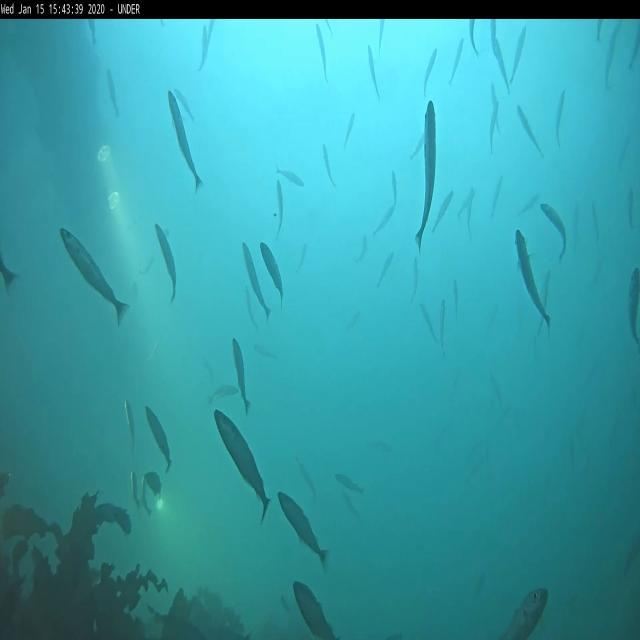fish: (63, 230, 130, 327), (216, 408, 270, 522), (278, 495, 328, 568), (167, 92, 202, 189), (518, 231, 552, 327), (418, 103, 438, 245), (294, 582, 336, 640), (502, 589, 549, 638), (244, 243, 271, 319), (155, 222, 177, 301), (147, 408, 172, 471), (232, 339, 253, 412), (541, 204, 566, 261), (518, 106, 544, 158), (604, 20, 624, 86), (260, 245, 282, 300), (512, 24, 528, 84), (627, 268, 639, 346), (105, 70, 123, 120), (432, 192, 453, 232), (367, 47, 383, 99), (316, 26, 330, 82), (374, 204, 397, 237), (1, 259, 22, 294), (448, 40, 463, 86), (277, 165, 306, 188), (496, 45, 510, 90), (323, 147, 337, 190), (423, 49, 436, 93), (336, 473, 364, 493), (208, 384, 238, 401), (491, 87, 502, 133), (489, 103, 499, 153), (378, 253, 393, 286), (422, 306, 434, 346), (144, 468, 162, 493), (410, 132, 426, 160), (490, 178, 502, 215), (125, 400, 135, 444), (466, 190, 476, 234), (458, 190, 474, 217), (630, 28, 640, 70), (130, 470, 141, 508), (344, 113, 356, 147), (246, 290, 256, 330), (141, 478, 152, 511), (276, 180, 282, 240), (296, 246, 308, 276), (626, 188, 634, 232), (518, 196, 540, 212), (557, 90, 563, 148), (470, 22, 480, 56), (411, 259, 418, 304), (620, 138, 632, 164), (255, 342, 272, 360), (591, 204, 600, 235), (378, 21, 386, 54), (489, 20, 496, 57), (392, 174, 399, 207), (202, 28, 207, 70), (89, 21, 98, 44), (452, 284, 458, 315), (358, 240, 367, 260), (596, 18, 604, 40), (441, 301, 444, 356), (208, 21, 214, 47), (326, 21, 334, 34)
